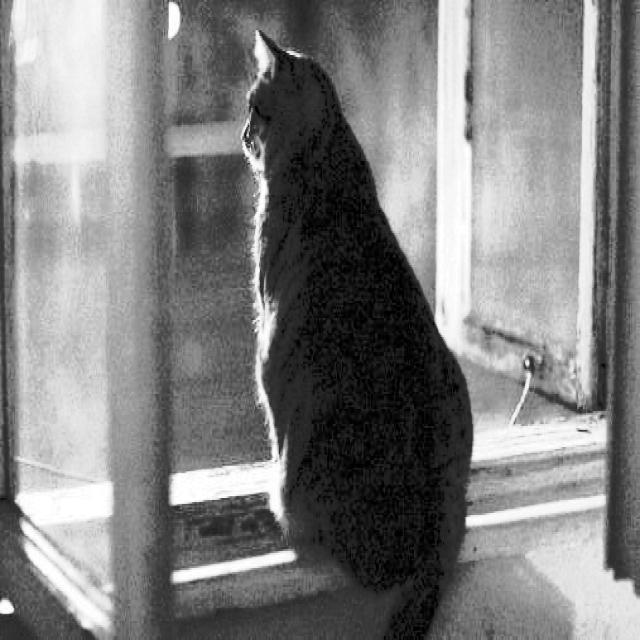Cat: (221, 17, 475, 640)
